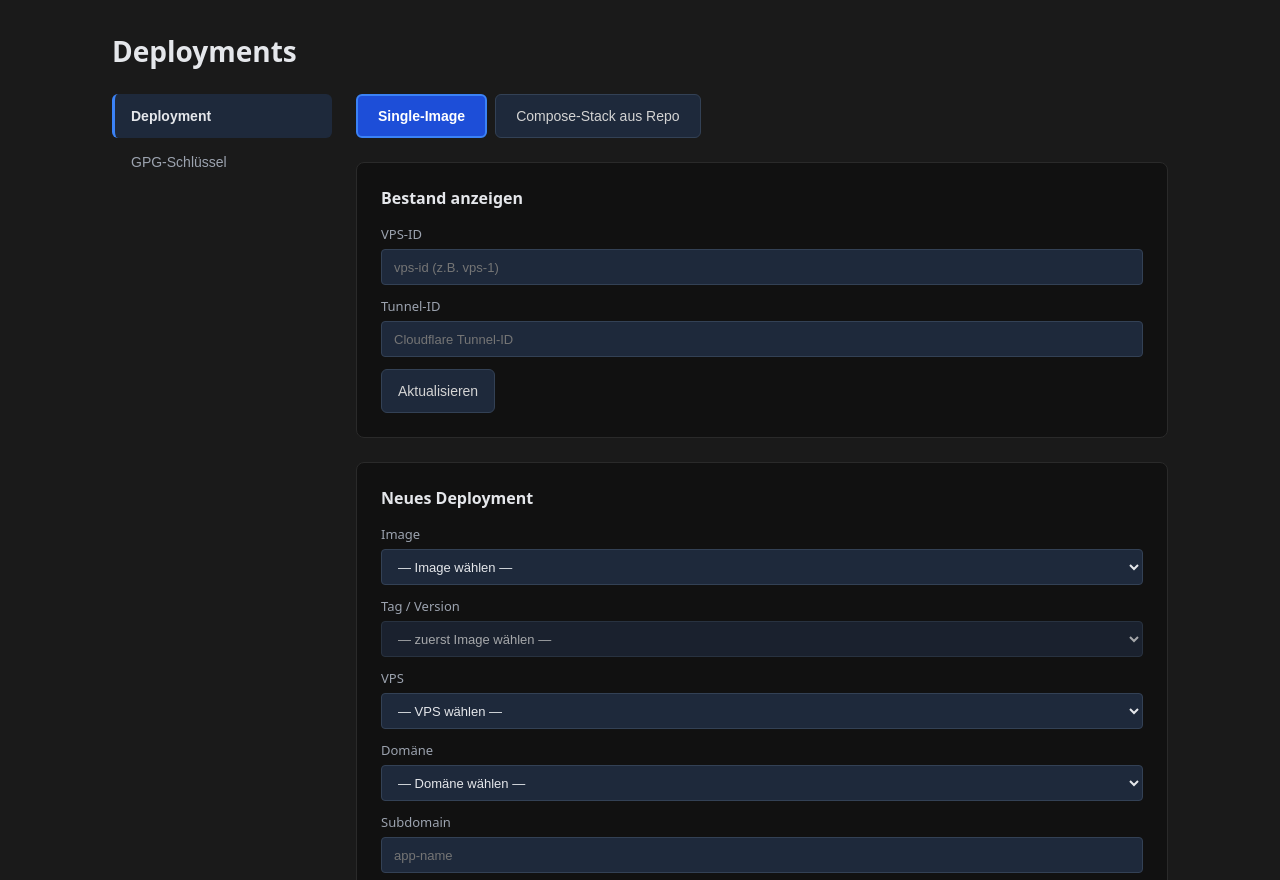
Test: DeploymentsView — AC12: Deploy-Button activation › shows success message after successful deploy
Select "brew-assistent" in the dropdown with id "deploy-image-select" at (762, 567), box [381,549,1143,585]
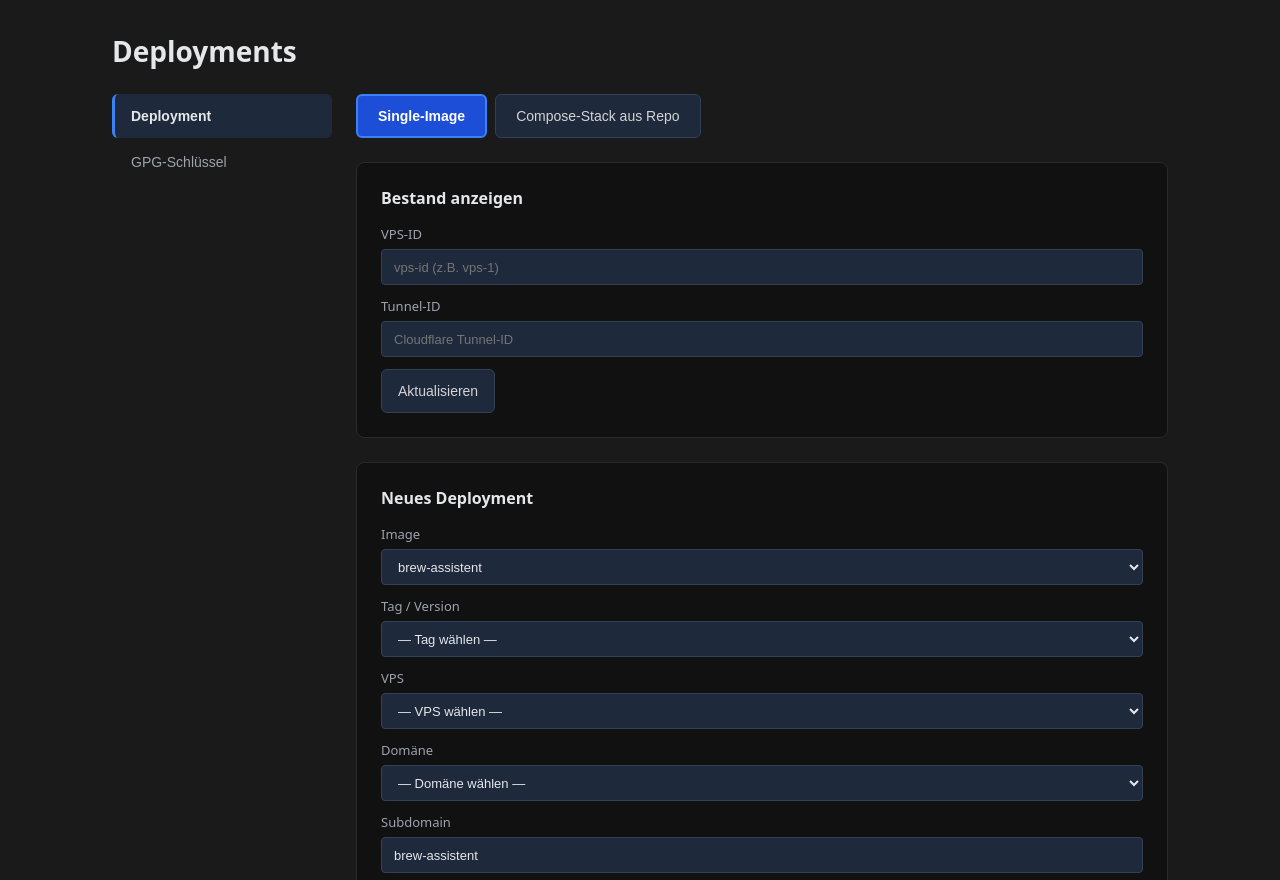
Select "v1.0.0" in the dropdown with id "deploy-tag-select" at (762, 639), box [381,621,1143,657]
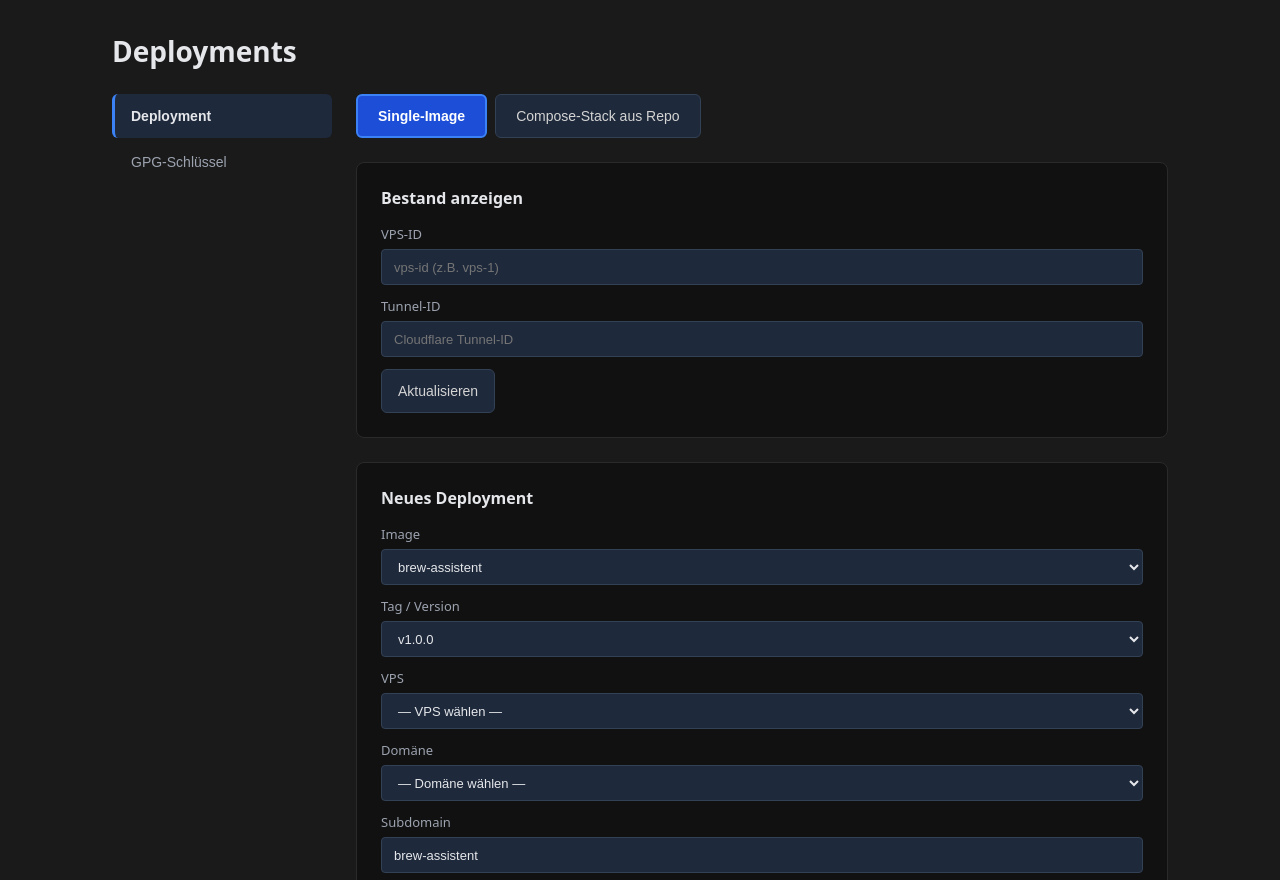
Select "vps-1" in the dropdown with id "deploy-vps-select" at (762, 711), box [381,693,1143,729]
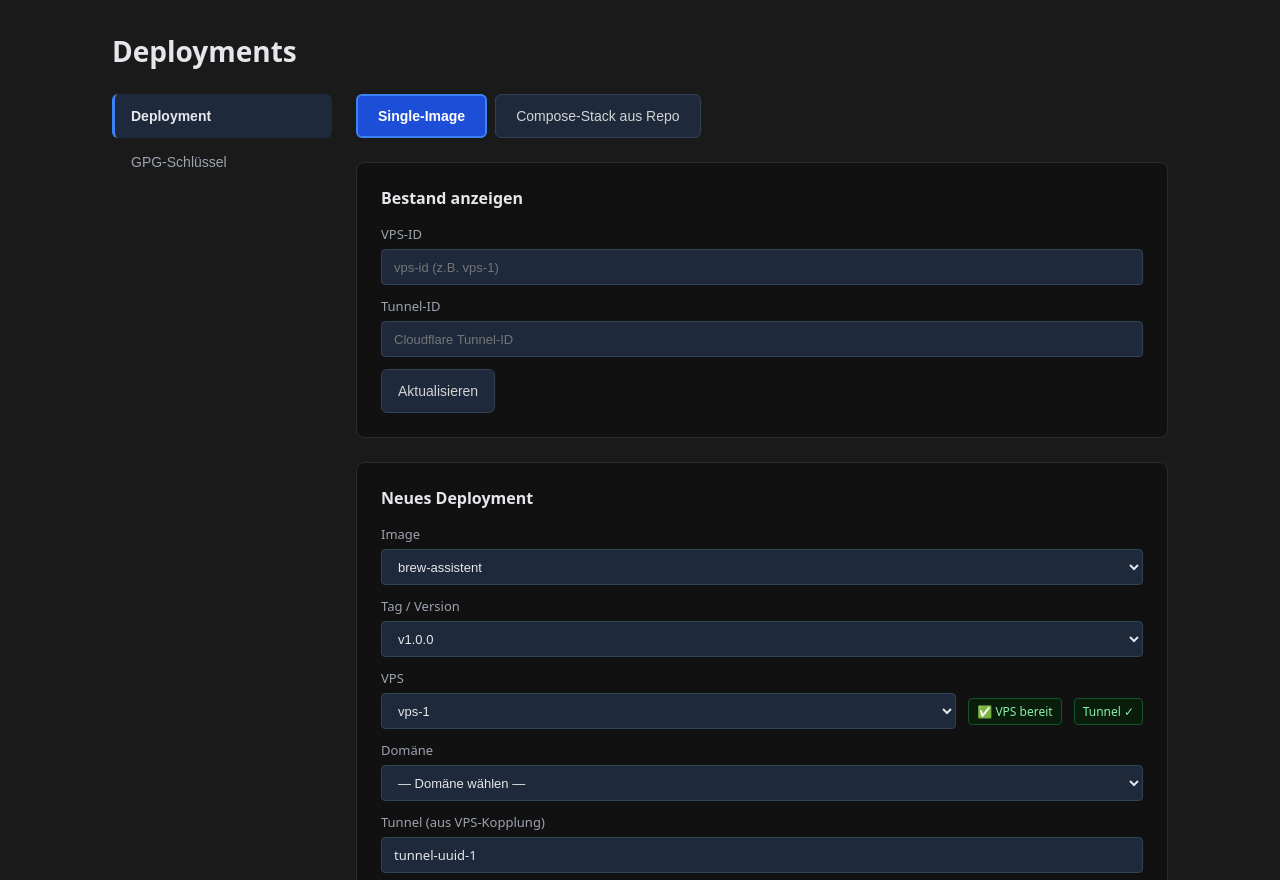
Select "alexstuder.cloud" in the dropdown with id "deploy-zone-select" at (762, 783), box [381,765,1143,801]
(page scrolled)
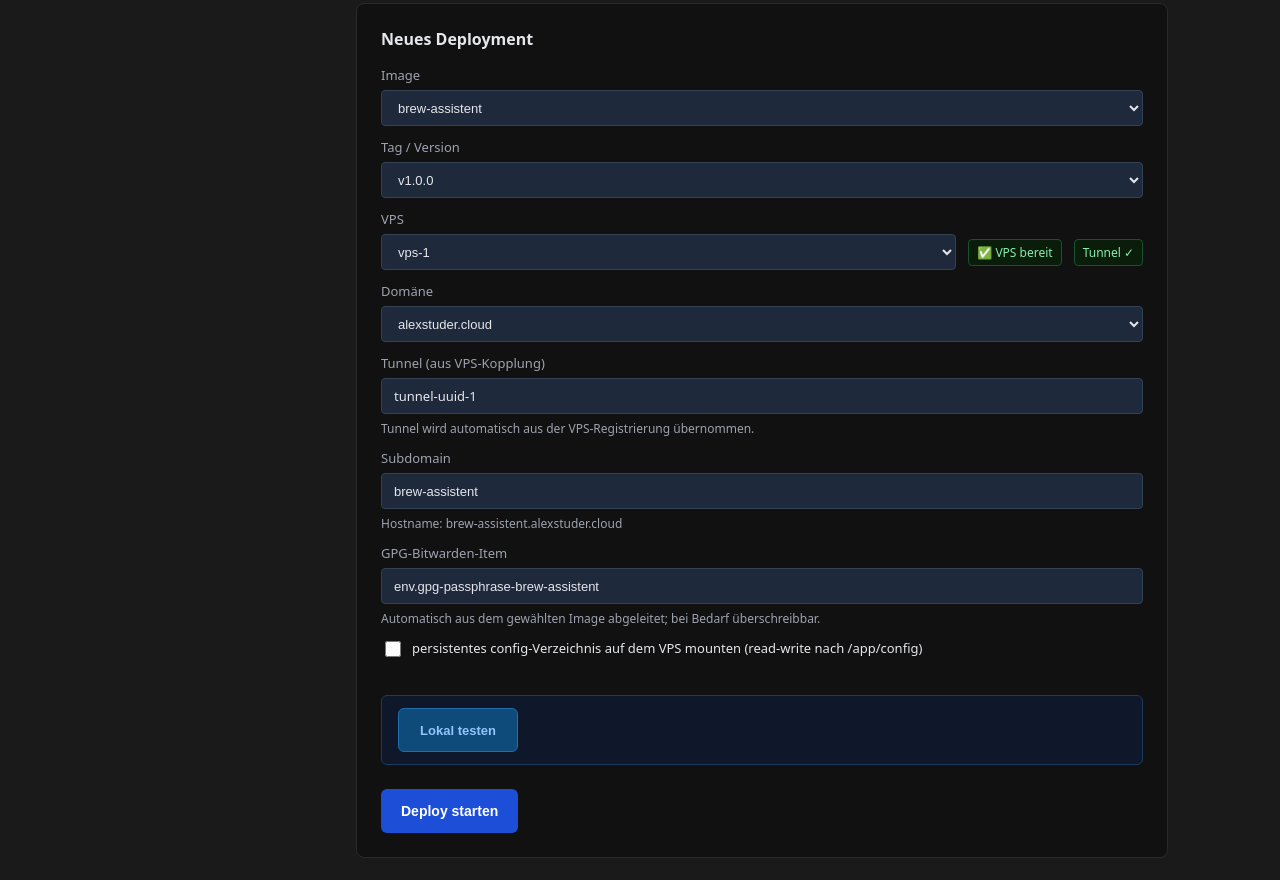
Check: the button "Deploy starten" is enabled, box [381,789,518,833]
Check: the message "Tunnel ✓" is shown, box [1074,238,1143,266]
Submit the form named "Deploy-Formular", box [381,66,1143,833]
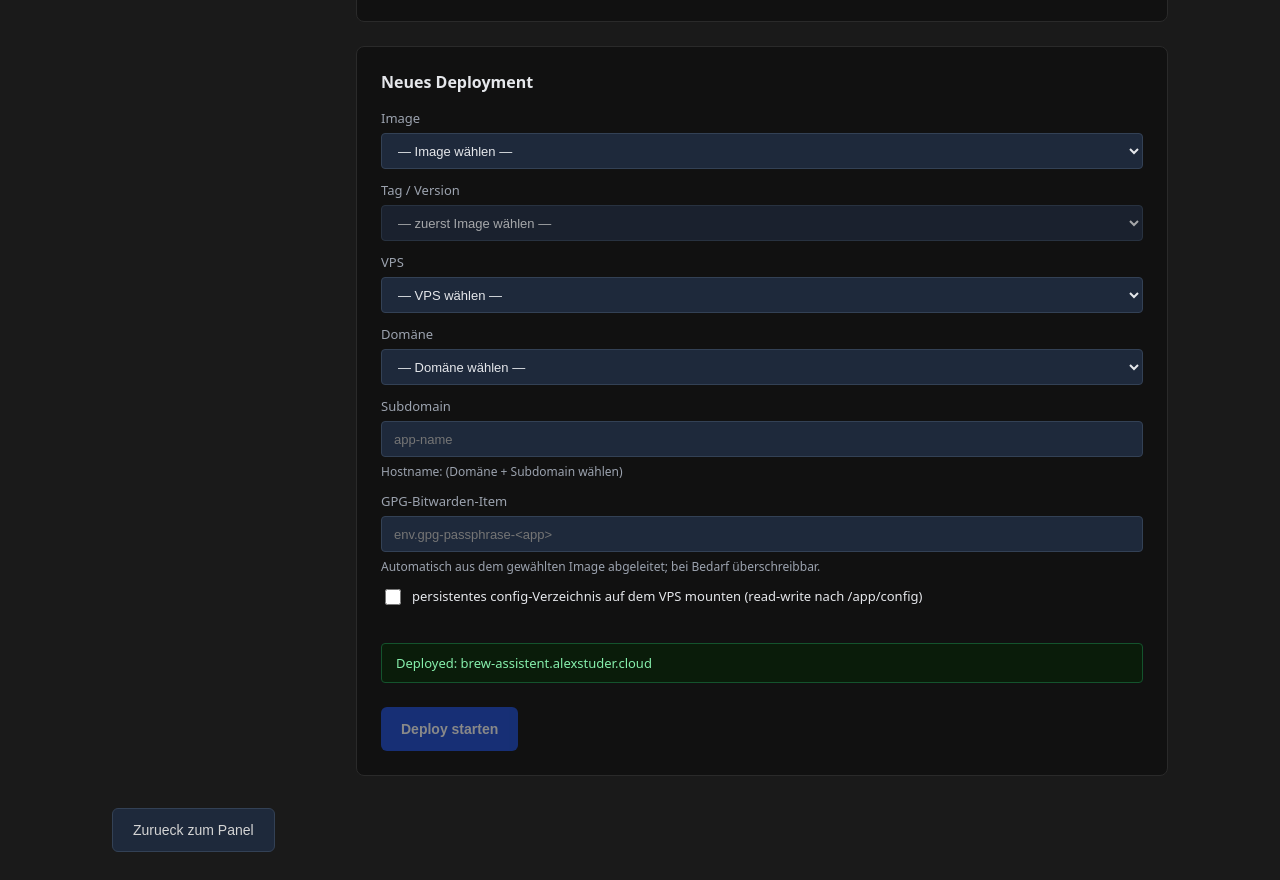
Check: the message shows "Deployed", box [396,654,652,672]
